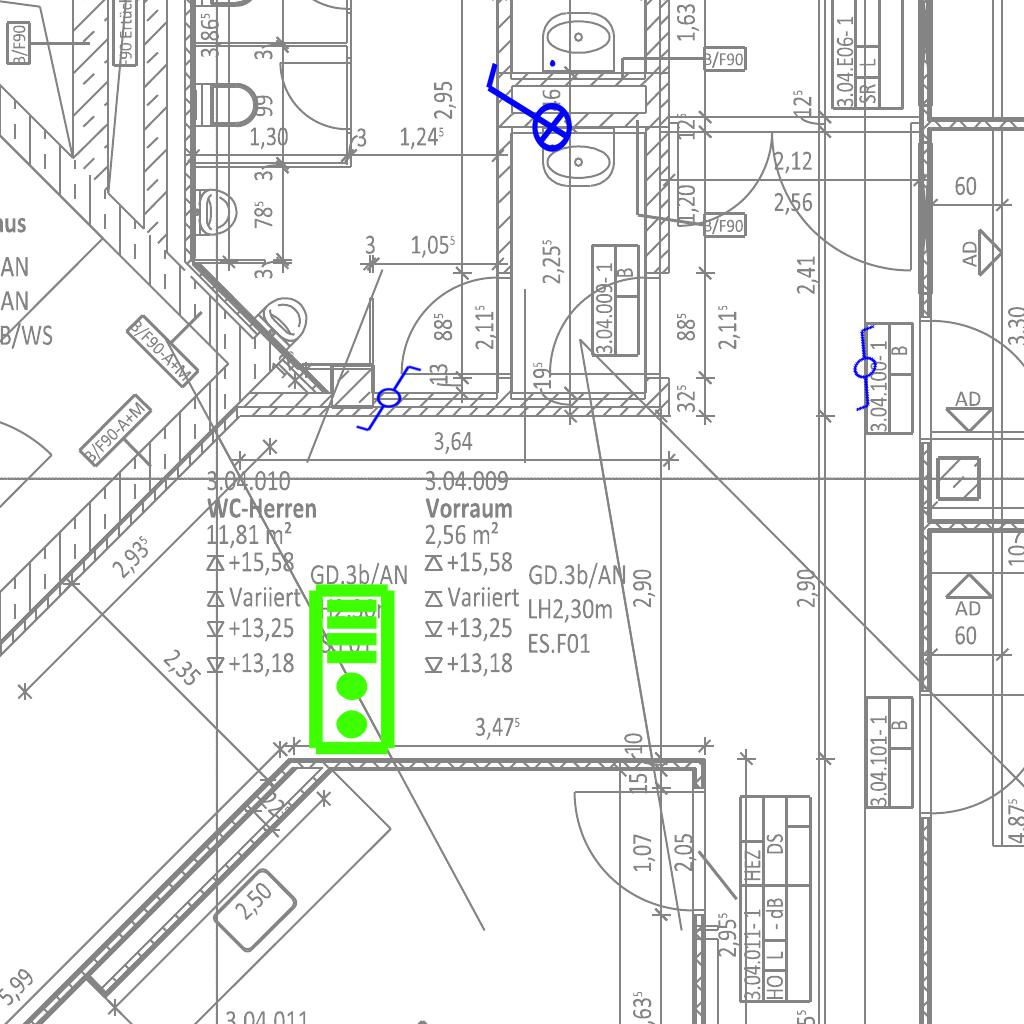Ausschalter_beleuchtet: (478, 54, 574, 166)
Gegensprechanlage_mit_Video: (306, 582, 401, 758)
Wechselschalter: (816, 313, 922, 419), (354, 363, 432, 435)
